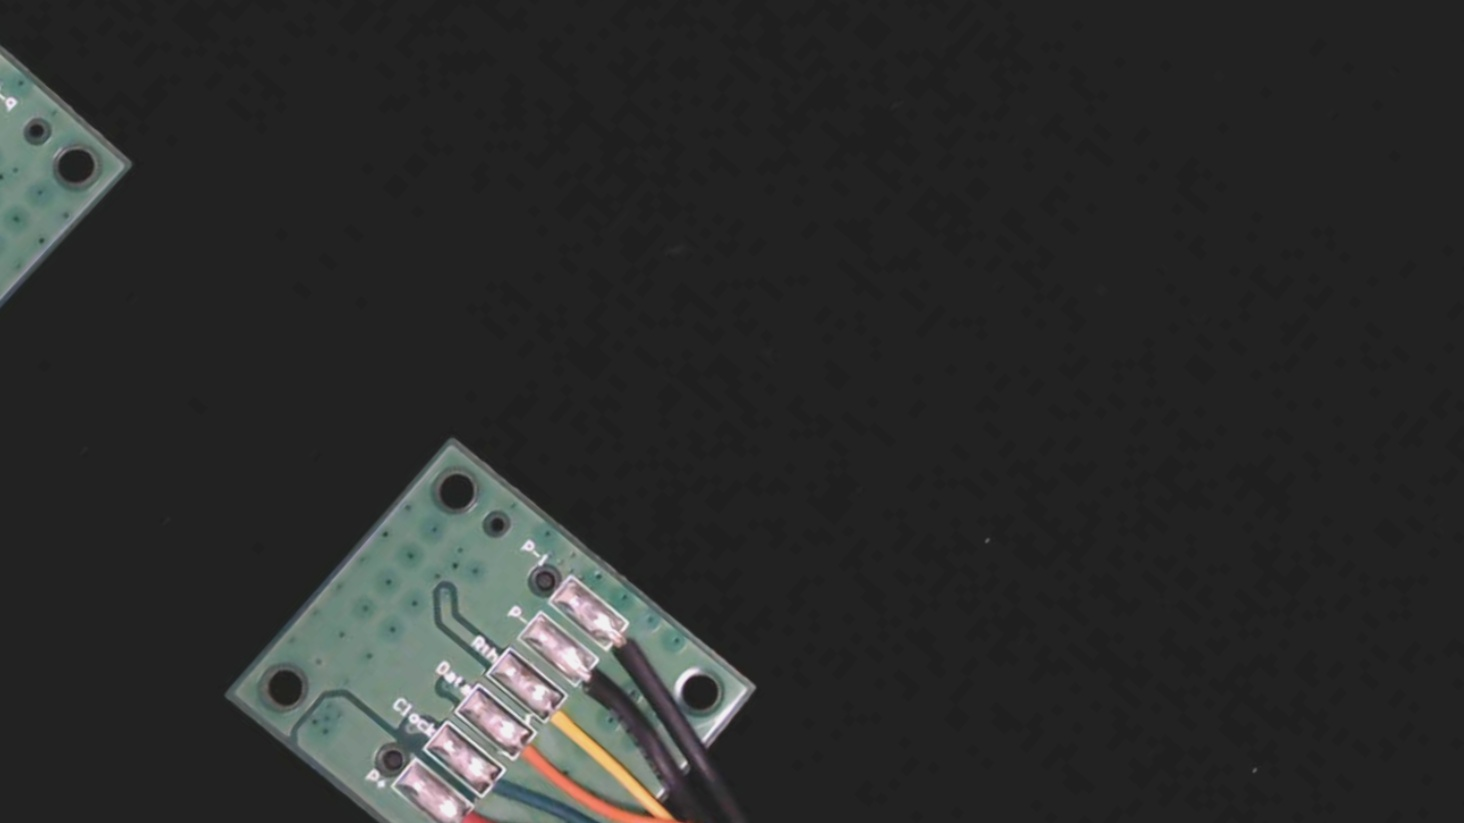Black: (561, 650, 645, 729)
Black1: (592, 612, 672, 686)
Green: (467, 757, 549, 823)
Orange: (499, 723, 584, 804)
Red: (437, 794, 518, 823)
Yellow: (529, 685, 611, 765)
